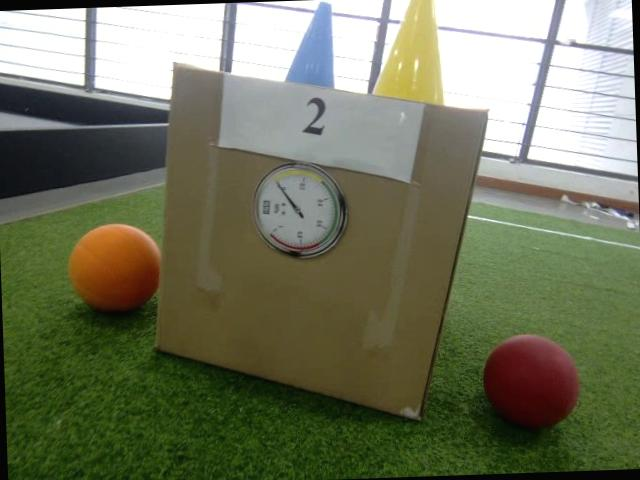2: (300, 96, 328, 134)
Dashboard: (252, 161, 348, 260)
blue_barrel: (282, 2, 336, 90)
orange_ball: (65, 220, 166, 315)
red_ball: (478, 331, 582, 432)
ssi: (262, 200, 270, 214)
yellow_barrel: (366, 0, 445, 107)
